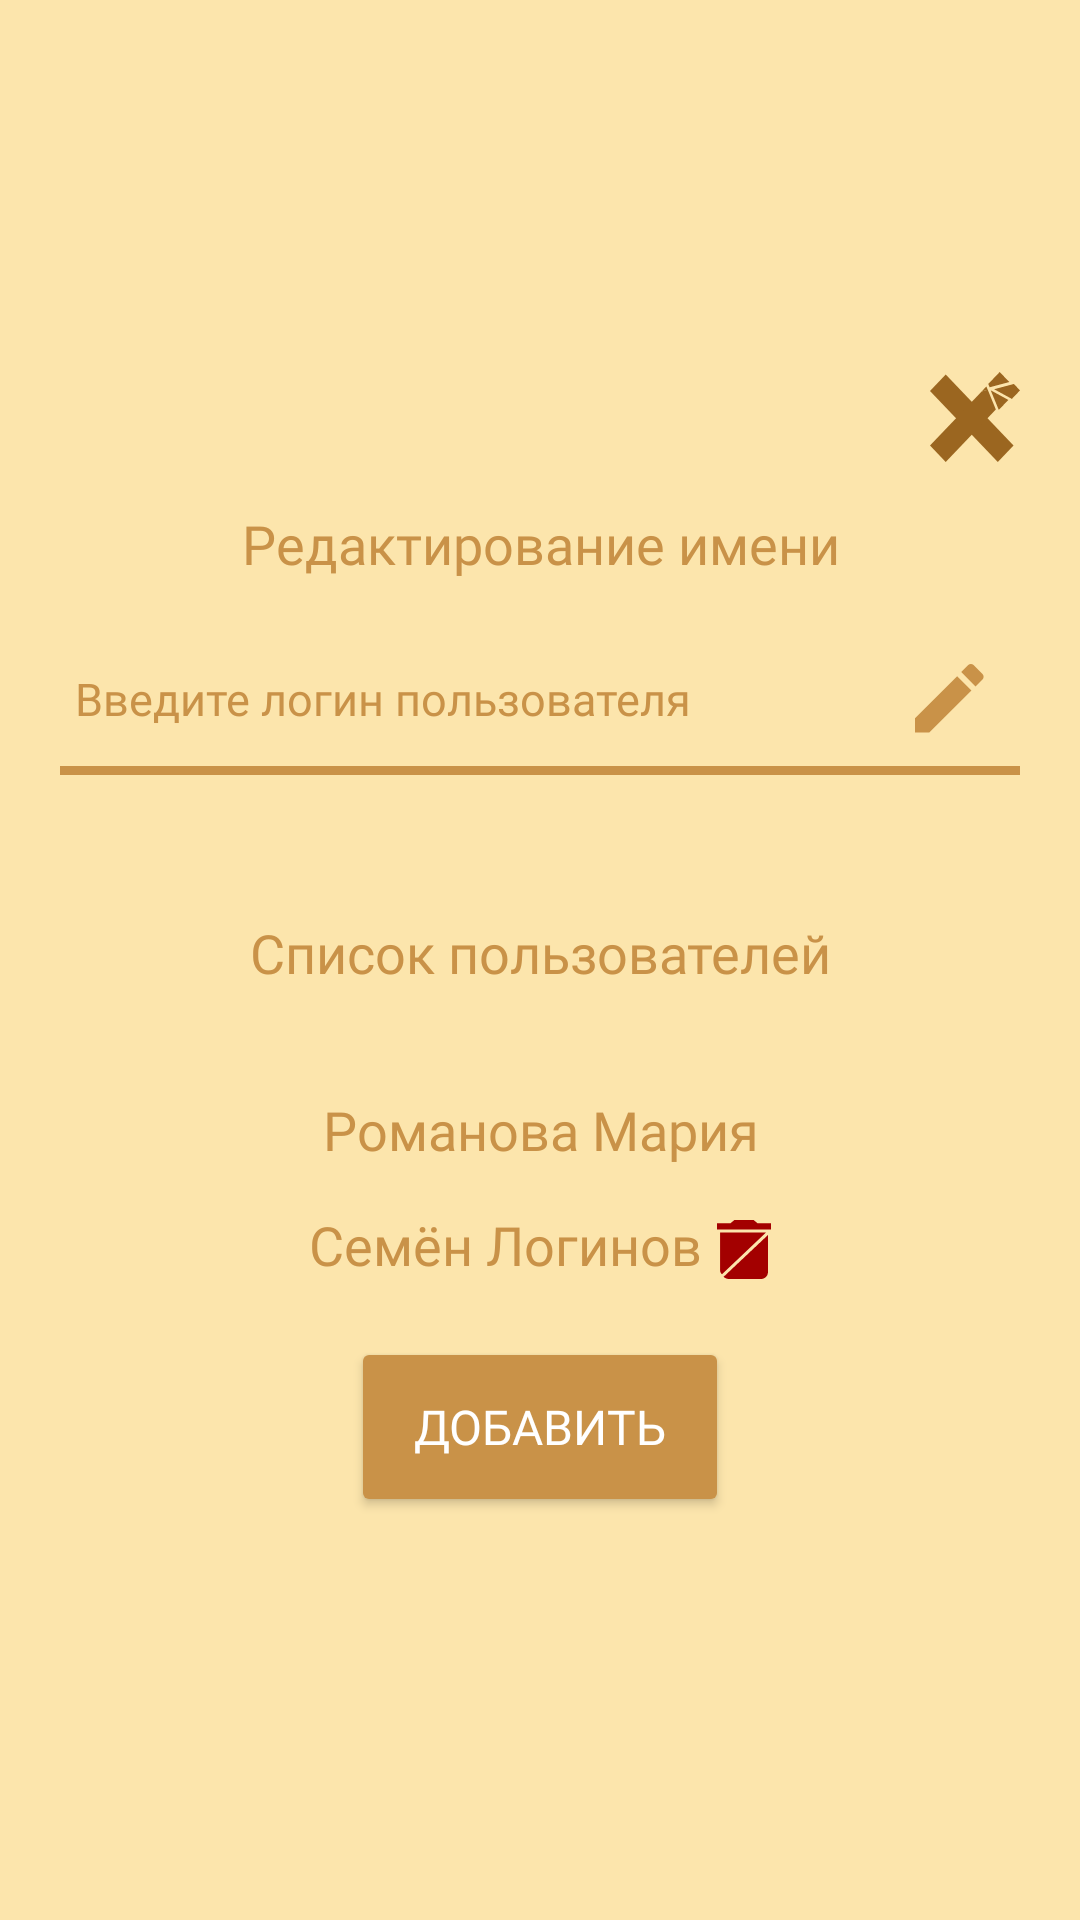

Point at icon controls on the screen. Image size 1080×1920, points as (x=x, y=y).
close: (x=975, y=417)
